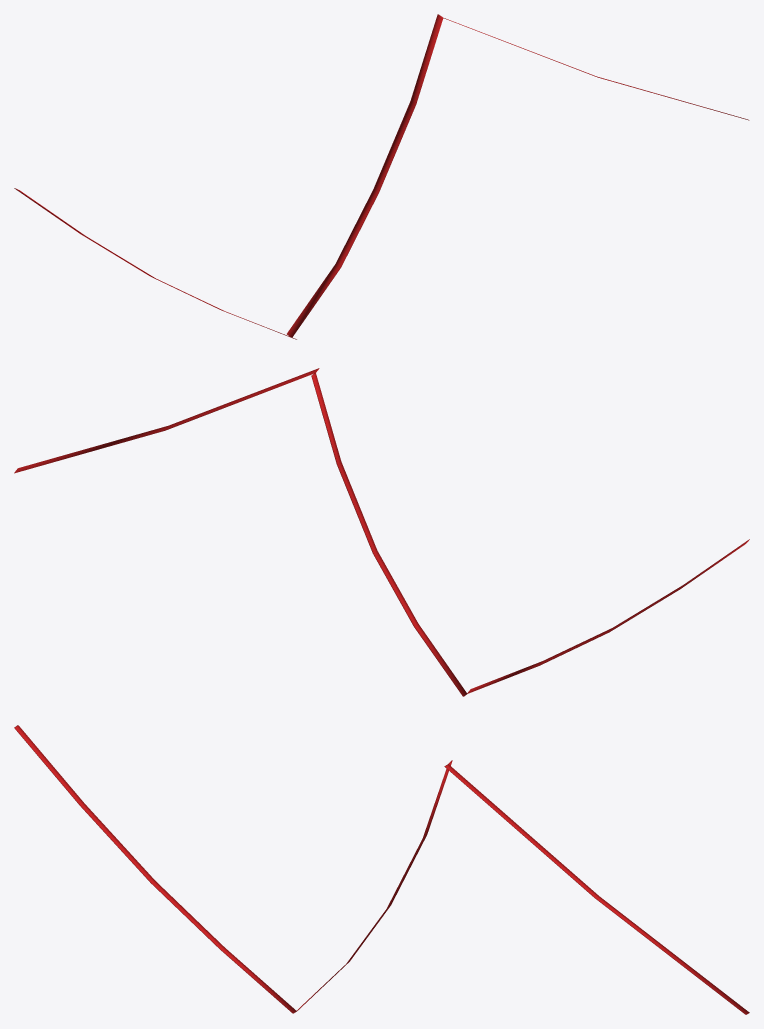
File: threading.glb
3 views of the same model, one above another, from view 1: azimuth 30°, elevation 25°; view 2: azimuth 150°, elevation 25°; view 3: azimuth 330°, elevation 25° (orthographic).
Parts seen in each view (by area): view 1: Thread.003; view 2: Thread.003, Thread.002, Thread; view 3: Thread, Thread.002, Thread.003.
Boxes of the visible parts, x1,y1,x2,y2 form: Thread.003: (287,14,443,337); Thread.003: (311,373,467,696); Thread.002: (14,368,319,473); Thread: (467,539,749,693); Thread: (14,725,296,1013); Thread.002: (444,764,749,1014); Thread.003: (297,760,452,1010).
Bounding box in the file's own units: 1.19 × 0.4435 × 0.0313.
Materials: 1 (1 with a texture image).
